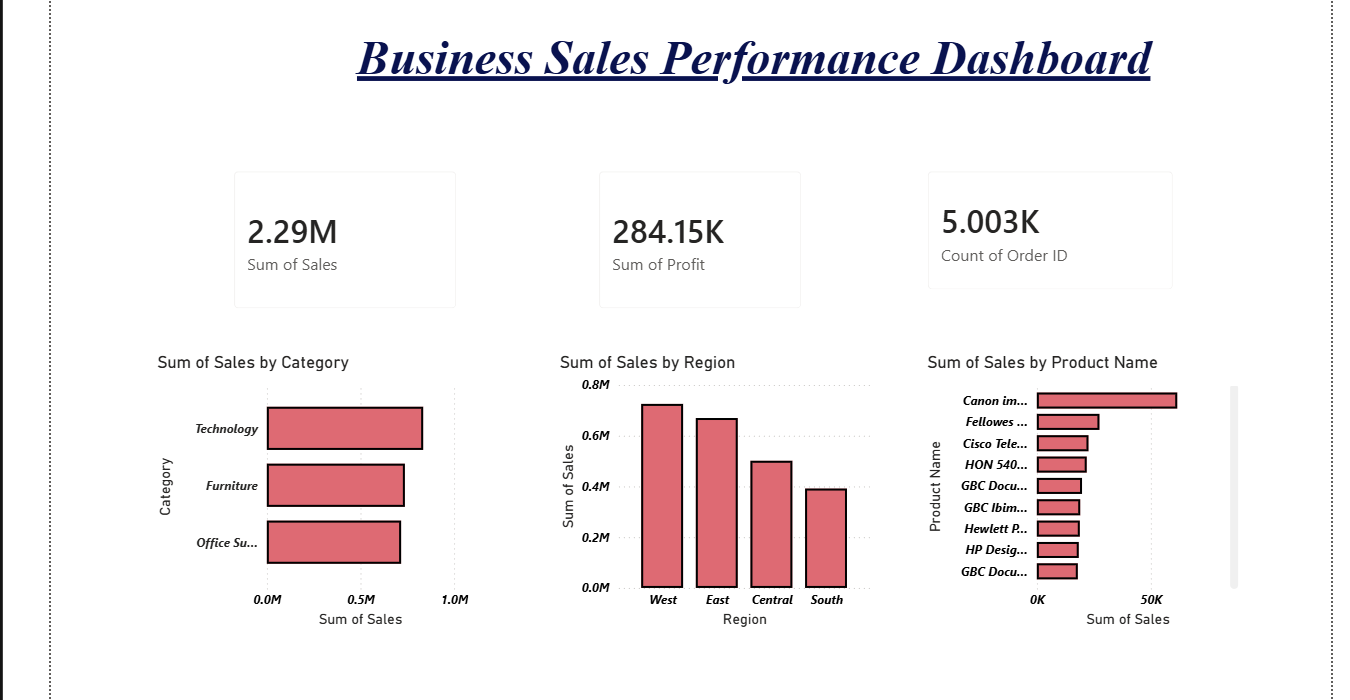

This screenshot's page, from the dashboard's own definition file:
{"tool":"powerbi","page":{"name":"Page 1","canvas":[1280,720],"ordinal":0},"visuals":[{"type":"cardVisual","fields":{"Data":["Sum(superstore_cleaned.Sales)"]},"box":[166,161.9,256.6,171.5],"z":0},{"type":"cardVisual","fields":{"Data":["Sum(superstore_cleaned.Profit)"]},"box":[531,161.9,236,171.5],"z":1000},{"type":"clusteredBarChart","fields":{"Category":["superstore_cleaned.Category"],"Y":["Sum(superstore_cleaned.Sales)"]},"box":[101.5,359.5,321.1,279.9],"z":2000},{"type":"clusteredColumnChart","fields":{"Category":["superstore_cleaned.Region"],"Y":["Sum(superstore_cleaned.Sales)"]},"box":[503.6,359.5,321.1,279.9],"z":3000},{"type":"clusteredBarChart","fields":{"Category":["superstore_cleaned.Product Name"],"Y":["Sum(superstore_cleaned.Sales)"]},"box":[871.4,359.5,321.1,279.9],"z":4000},{"type":"textbox","box":[124.9,34.3,1155.4,85.1],"z":5000},{"type":"cardVisual","fields":{"Data":["Count(superstore_cleaned.Order ID)"]},"box":[871.2,162.5,280,151.2],"z":6000}]}

Visuals, with their boxes on the page's 1280x720 design canvas (x1, y1, x2, y2). These are canvas units, not pixel positions in the 1350x700 screenshot, which may show the page scaled, cropped or inside an application window:
cardVisual - Sum(superstore_cleaned.Sales): locate(166, 162, 423, 333)
cardVisual - Sum(superstore_cleaned.Profit): locate(531, 162, 767, 333)
clusteredBarChart - superstore_cleaned.Category x Sum(superstore_cleaned.Sales): locate(102, 360, 423, 639)
clusteredColumnChart - superstore_cleaned.Region x Sum(superstore_cleaned.Sales): locate(504, 360, 825, 639)
clusteredBarChart - superstore_cleaned.Product Name x Sum(superstore_cleaned.Sales): locate(871, 360, 1192, 639)
textbox: locate(125, 34, 1280, 119)
cardVisual - Count(superstore_cleaned.Order ID): locate(871, 162, 1151, 314)
